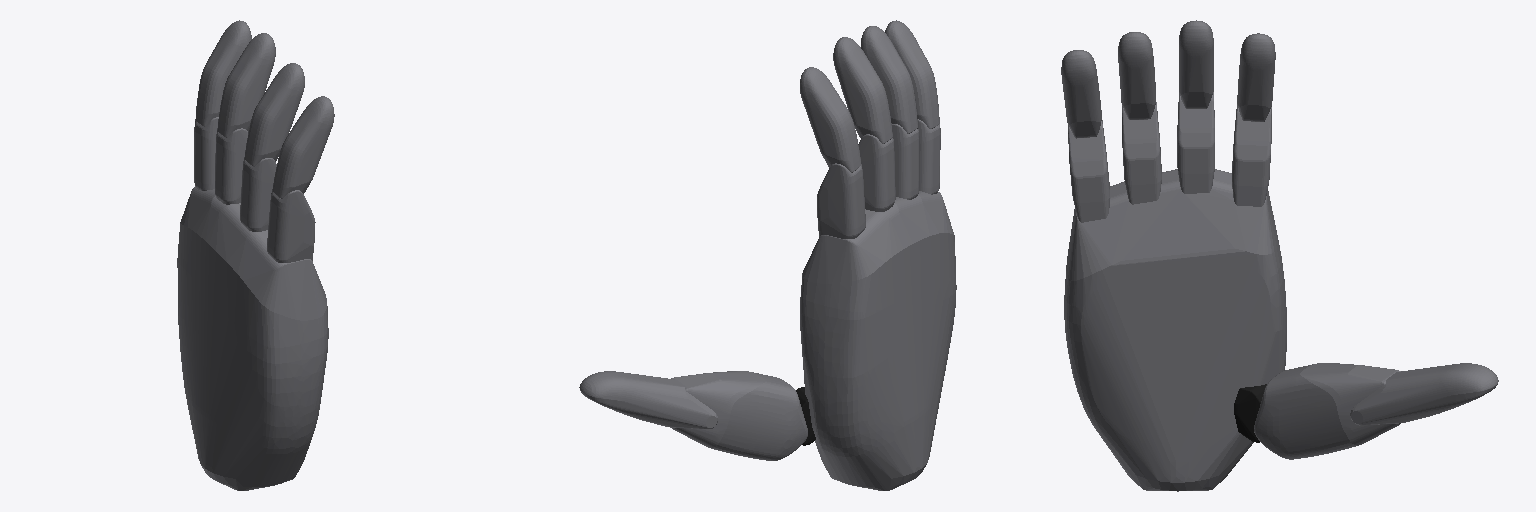
The robot description file, URDF, robot "linkerbot_o6_right":
<?xml version='1.0' encoding='utf-8'?>
<robot name="linkerbot_o6_right">
  <material name="rh_o6_silver">
    <color rgba="0.5 0.5 0.52 1.0" />
  </material>
  <material name="rh_o6_black_accent">
    <color rgba="0.15 0.15 0.15 1.0" />
  </material>
  <link name="rh_hand_base_link">
    <inertial>
      <origin xyz="-0.00160320773490556 0.000358462699237561 0.0538002704027215" rpy="0 0 0" />
      <mass value="0.06740077960995" />
      <inertia ixx="5.22359941041901E-05" ixy="3.0391535852764E-07" ixz="3.88322215371643E-07" iyy="3.33473043513648E-05" iyz="-7.77555280794861E-07" izz="2.28342677422006E-05" />
    </inertial>
    <visual>
      <origin xyz="0 0 0" rpy="0 0 0" />
      <geometry>
        <mesh filename="../meshes/right_cvx/hand_base_link.stl" />
      </geometry>
      <material name="rh_o6_silver" />
    </visual>
    <collision>
      <origin xyz="0 0 0" rpy="0 0 0" />
      <geometry>
        <mesh filename="../meshes/right_cvx/hand_base_link.stl" />
      </geometry>
    </collision>
  </link>
  <link name="rh_thumb_metacarpals_base2">
    <inertial>
      <origin xyz="0.00162795738393507 0.00276671978336815 -0.00184227725602707" rpy="0 0 0" />
      <mass value="0.00138591070212997" />
      <inertia ixx="5.26294625624223E-08" ixy="-3.9288013799604E-09" ixz="2.43766268199571E-09" iyy="4.82623724532942E-08" iyz="3.71867754115443E-09" izz="2.88555522060562E-08" />
    </inertial>
    <visual>
      <origin xyz="0 0 0" rpy="0 0 0" />
      <geometry>
        <mesh filename="../meshes/right_cvx/thumb_metacarpals_base2.stl" />
      </geometry>
      <material name="rh_o6_black_accent" />
    </visual>
    <collision>
      <origin xyz="0 0 0" rpy="0 0 0" />
      <geometry>
        <mesh filename="../meshes/right_cvx/thumb_metacarpals_base2.stl" />
      </geometry>
    </collision>
  </link>
  <link name="rh_thumb_metacarpals">
    <inertial>
      <origin xyz="4.24920612856275E-05 -1.67885666835232E-05 0.0228341522590467" rpy="0 0 0" />
      <mass value="0.0123381607727595" />
      <inertia ixx="1.10292488693766E-06" ixy="-6.14241939151719E-10" ixz="1.14233108676795E-07" iyy="1.76757658485787E-06" iyz="-4.24576599367025E-10" izz="9.36348143657406E-07" />
    </inertial>
    <visual>
      <origin xyz="0 0 0" rpy="0 0 0" />
      <geometry>
        <mesh filename="../meshes/right_cvx/thumb_metacarpals.stl" />
      </geometry>
      <material name="rh_o6_silver" />
    </visual>
    <collision>
      <origin xyz="0 0 0" rpy="0 0 0" />
      <geometry>
        <mesh filename="../meshes/right_cvx/thumb_metacarpals.stl" />
      </geometry>
    </collision>
  </link>
  <link name="rh_thumb_distal">
    <inertial>
      <origin xyz="-0.00413690727496815 -4.54842793429222E-07 0.0230097179163771" rpy="0 0 0" />
      <mass value="0.00763302603723749" />
      <inertia ixx="1.30546842791578E-06" ixy="-2.61617511029467E-12" ixz="7.19030685242407E-08" iyy="1.22457212713176E-06" iyz="1.66931068485225E-11" izz="2.7729897944409E-07" />
    </inertial>
    <visual>
      <origin xyz="0 0 0" rpy="0 0 0" />
      <geometry>
        <mesh filename="../meshes/right_cvx/thumb_distal.stl" />
      </geometry>
      <material name="rh_o6_silver" />
    </visual>
    <collision>
      <origin xyz="0 0 0" rpy="0 0 0" />
      <geometry>
        <mesh filename="../meshes/right_cvx/thumb_distal.stl" />
      </geometry>
    </collision>
  </link>
  <link name="rh_index_proximal">
    <inertial>
      <origin xyz="-0.00208665596033792 -4.8964990644329E-06 0.0172736718900068" rpy="0 0 0" />
      <mass value="0.00253178529301663" />
      <inertia ixx="2.65990159539482E-07" ixy="-3.55165625722842E-11" ixz="4.31046335852167E-08" iyy="2.72915460277804E-07" iyz="1.75935978708959E-10" izz="8.56026306687528E-08" />
    </inertial>
    <visual>
      <origin xyz="0 0 0" rpy="0 0 0" />
      <geometry>
        <mesh filename="../meshes/right_cvx/index_proximal.stl" />
      </geometry>
      <material name="rh_o6_silver" />
    </visual>
    <collision>
      <origin xyz="0 0 0" rpy="0 0 0" />
      <geometry>
        <mesh filename="../meshes/right_cvx/index_proximal.stl" />
      </geometry>
    </collision>
  </link>
  <link name="rh_index_distal">
    <inertial>
      <origin xyz="0.00658940011630532 -4.59976557022623E-06 0.0194434136420913" rpy="0 0 0" />
      <mass value="0.00376787129082313" />
      <inertia ixx="3.22116619426455E-07" ixy="1.03152735699049E-11" ixz="-1.14363506430985E-07" iyy="3.65131844686317E-07" iyz="-1.97263639269362E-10" izz="1.24256890612907E-07" />
    </inertial>
    <visual>
      <origin xyz="0 0 0" rpy="0 0 0" />
      <geometry>
        <mesh filename="../meshes/right_cvx/index_distal.stl" />
      </geometry>
      <material name="rh_o6_silver" />
    </visual>
    <collision>
      <origin xyz="0 0 0" rpy="0 0 0" />
      <geometry>
        <mesh filename="../meshes/right_cvx/index_distal.stl" />
      </geometry>
    </collision>
  </link>
  <link name="rh_middle_proximal">
    <inertial>
      <origin xyz="-0.00208661081773556 -4.93451838476378E-06 0.0172736805321904" rpy="0 0 0" />
      <mass value="0.00253175497594429" />
      <inertia ixx="2.65989683690695E-07" ixy="-3.58343951791586E-11" ixz="4.31048601085216E-08" iyy="2.72915006047006E-07" iyz="1.75718024412593E-10" izz="8.56020467202518E-08" />
    </inertial>
    <visual>
      <origin xyz="0 0 0" rpy="0 0 0" />
      <geometry>
        <mesh filename="../meshes/right_cvx/middle_proximal.stl" />
      </geometry>
      <material name="rh_o6_silver" />
    </visual>
    <collision>
      <origin xyz="0 0 0" rpy="0 0 0" />
      <geometry>
        <mesh filename="../meshes/right_cvx/middle_proximal.stl" />
      </geometry>
    </collision>
  </link>
  <link name="rh_middle_distal">
    <inertial>
      <origin xyz="0.00658940304809306 -4.5885743593238E-06 0.0194434523296449" rpy="0 0 0" />
      <mass value="0.00376786259758948" />
      <inertia ixx="3.221153658306E-07" ixy="1.02639617308432E-11" ixz="-1.14363547272711E-07" iyy="3.65130723083104E-07" iyz="-1.96904618797577E-10" izz="1.24256787913797E-07" />
    </inertial>
    <visual>
      <origin xyz="0 0 0" rpy="0 0 0" />
      <geometry>
        <mesh filename="../meshes/right_cvx/middle_distal.stl" />
      </geometry>
      <material name="rh_o6_silver" />
    </visual>
    <collision>
      <origin xyz="0 0 0" rpy="0 0 0" />
      <geometry>
        <mesh filename="../meshes/right_cvx/middle_distal.stl" />
      </geometry>
    </collision>
  </link>
  <link name="rh_ring_proximal">
    <inertial>
      <origin xyz="-0.00208654311325356 -4.98538564003281E-06 0.0172736743497407" rpy="0 0 0" />
      <mass value="0.00253170963529411" />
      <inertia ixx="2.6598913795678E-07" ixy="-3.62757108675266E-11" ixz="4.31050611555507E-08" iyy="2.72914417061517E-07" iyz="1.75554984053478E-10" izz="8.56012458677515E-08" />
    </inertial>
    <visual>
      <origin xyz="0 0 0" rpy="0 0 0" />
      <geometry>
        <mesh filename="../meshes/right_cvx/ring_proximal.stl" />
      </geometry>
      <material name="rh_o6_silver" />
    </visual>
    <collision>
      <origin xyz="0 0 0" rpy="0 0 0" />
      <geometry>
        <mesh filename="../meshes/right_cvx/ring_proximal.stl" />
      </geometry>
    </collision>
  </link>
  <link name="rh_ring_distal">
    <inertial>
      <origin xyz="0.00658940273069729 -4.56628863591824E-06 0.0194435005686854" rpy="0 0 0" />
      <mass value="0.0037678395356105" />
      <inertia ixx="3.22112632437858E-07" ixy="1.01848408913558E-11" ixz="-1.1436348915342E-07" iyy="3.65128262095686E-07" iyz="-1.96145632992445E-10" izz="1.24256284608064E-07" />
    </inertial>
    <visual>
      <origin xyz="0 0 0" rpy="0 0 0" />
      <geometry>
        <mesh filename="../meshes/right_cvx/ring_distal.stl" />
      </geometry>
      <material name="rh_o6_silver" />
    </visual>
    <collision>
      <origin xyz="0 0 0" rpy="0 0 0" />
      <geometry>
        <mesh filename="../meshes/right_cvx/ring_distal.stl" />
      </geometry>
    </collision>
  </link>
  <link name="rh_pinky_proximal">
    <inertial>
      <origin xyz="-0.00208649034130813 -5.02314582560837E-06 0.0172736680793697" rpy="0 0 0" />
      <mass value="0.00253167400540778" />
      <inertia ixx="2.65988718820404E-07" ixy="-3.66012295280295E-11" ixz="4.31052220484445E-08" iyy="2.72913936904813E-07" iyz="1.75447396222308E-10" izz="8.56006424720129E-08" />
    </inertial>
    <visual>
      <origin xyz="0 0 0" rpy="0 0 0" />
      <geometry>
        <mesh filename="../meshes/right_cvx/pinky_proximal.stl" />
      </geometry>
      <material name="rh_o6_silver" />
    </visual>
    <collision>
      <origin xyz="0 0 0" rpy="0 0 0" />
      <geometry>
        <mesh filename="../meshes/right_cvx/pinky_proximal.stl" />
      </geometry>
    </collision>
  </link>
  <link name="rh_pinky_distal">
    <inertial>
      <origin xyz="0.00658940431519205 -4.55268314210333E-06 0.0194435341098305" rpy="0 0 0" />
      <mass value="0.00376782669873412" />
      <inertia ixx="3.22111112339498E-07" ixy="1.01707985908333E-11" ixz="-1.14363524419061E-07" iyy="3.65126916899176E-07" iyz="-1.95589215866356E-10" izz="1.24256004854426E-07" />
    </inertial>
    <visual>
      <origin xyz="0 0 0" rpy="0 0 0" />
      <geometry>
        <mesh filename="../meshes/right_cvx/pinky_distal.stl" />
      </geometry>
      <material name="rh_o6_silver" />
    </visual>
    <collision>
      <origin xyz="0 0 0" rpy="0 0 0" />
      <geometry>
        <mesh filename="../meshes/right_cvx/pinky_distal.stl" />
      </geometry>
    </collision>
  </link>
  <joint name="rh_thumb_cmc_yaw" type="revolute">
    <origin xyz="0.011508 0.022975 0.032794" rpy="0 0 0" />
    <parent link="rh_hand_base_link" />
    <child link="rh_thumb_metacarpals_base2" />
    <axis xyz="0 0 -1" />
    <limit lower="0" upper="1.36" effort="100" velocity="1" />
  </joint>
  <joint name="rh_thumb_cmc_pitch" type="revolute">
    <origin xyz="0.0061649 0.010678 -0.004891" rpy="0 -1.1529 -2.0944" />
    <parent link="rh_thumb_metacarpals_base2" />
    <child link="rh_thumb_metacarpals" />
    <axis xyz="0 1 0" />
    <limit lower="0" upper="0.58" effort="100" velocity="1" />
  </joint>
  <joint name="rh_thumb_ip" type="revolute">
    <origin xyz="0.0037776 0 0.045368" rpy="0 0 0" />
    <parent link="rh_thumb_metacarpals" />
    <child link="rh_thumb_distal" />
    <axis xyz="0 1 0" />
    <limit lower="0" upper="1.08" effort="100" velocity="1" />
    <mimic joint="rh_thumb_cmc_pitch" multiplier="1.86" offset="0" />
  </joint>
  <joint name="rh_index_mcp_pitch" type="revolute">
    <origin xyz="0.0024758 0.02419 0.098779" rpy="-0.05236 0 0" />
    <parent link="rh_hand_base_link" />
    <child link="rh_index_proximal" />
    <axis xyz="0 1 0" />
    <limit lower="0" upper="1.60" effort="100" velocity="1" />
  </joint>
  <joint name="rh_index_dip" type="revolute">
    <origin xyz="-0.0052516 0 0.036625" rpy="0 0 0" />
    <parent link="rh_index_proximal" />
    <child link="rh_index_distal" />
    <axis xyz="0 1 0" />
    <limit lower="0" upper="1.43" effort="100" velocity="1" />
    <mimic joint="rh_index_mcp_pitch" multiplier="0.89" offset="0" />
  </joint>
  <joint name="rh_middle_mcp_pitch" type="revolute">
    <origin xyz="0.00052576 0.00634 0.1027" rpy="0 0 0" />
    <parent link="rh_hand_base_link" />
    <child link="rh_middle_proximal" />
    <axis xyz="0 1 0" />
    <limit lower="0" upper="1.60" effort="100" velocity="1" />
  </joint>
  <joint name="rh_middle_dip" type="revolute">
    <origin xyz="-0.0052516 0 0.036625" rpy="0 0 0" />
    <parent link="rh_middle_proximal" />
    <child link="rh_middle_distal" />
    <axis xyz="0 1 0" />
    <limit lower="0" upper="1.43" effort="100" velocity="1" />
    <mimic joint="rh_middle_mcp_pitch" multiplier="0.89" offset="0" />
  </joint>
  <joint name="rh_ring_mcp_pitch" type="revolute">
    <origin xyz="0.0010258 -0.011135 0.098767" rpy="0.05236 0 0" />
    <parent link="rh_hand_base_link" />
    <child link="rh_ring_proximal" />
    <axis xyz="0 1 0" />
    <limit lower="0" upper="1.60" effort="100" velocity="1" />
  </joint>
  <joint name="rh_ring_dip" type="revolute">
    <origin xyz="-0.0052516 0 0.036625" rpy="0 0 0" />
    <parent link="rh_ring_proximal" />
    <child link="rh_ring_distal" />
    <axis xyz="0 1 0" />
    <limit lower="0" upper="1.43" effort="100" velocity="1" />
    <mimic joint="rh_ring_mcp_pitch" multiplier="0.89" offset="0" />
  </joint>
  <joint name="rh_pinky_mcp_pitch" type="revolute">
    <origin xyz="0.0024758 -0.028372 0.092741" rpy="0.087266 0 0" />
    <parent link="rh_hand_base_link" />
    <child link="rh_pinky_proximal" />
    <axis xyz="0 1 0" />
    <limit lower="0" upper="1.60" effort="100" velocity="1" />
  </joint>
  <joint name="rh_pinky_dip" type="revolute">
    <origin xyz="-0.0052516 0 0.036625" rpy="0 0 0" />
    <parent link="rh_pinky_proximal" />
    <child link="rh_pinky_distal" />
    <axis xyz="0 1 0" />
    <limit lower="0" upper="1.43" effort="100" velocity="1" />
    <mimic joint="rh_pinky_mcp_pitch" multiplier="0.89" offset="0" />
  </joint>
</robot>

--- Facts derived from the render (not from the file) ---
3 views of the same robot in one strip: view 1: azimuth 30°, elevation 25°; view 2: azimuth 150°, elevation 25°; view 3: azimuth 270°, elevation 25° (orthographic).
Robot: linkerbot_o6_right — 12 links, 11 joints (11 revolute); root link rh_hand_base_link; default pose: every joint at zero.
Visible links, largest first — view 1: rh_hand_base_link, rh_pinky_distal, rh_ring_distal, rh_middle_distal, rh_pinky_proximal, rh_index_distal, rh_ring_proximal, rh_middle_proximal, rh_index_proximal; view 2: rh_hand_base_link, rh_thumb_metacarpals, rh_thumb_distal, rh_index_distal, rh_middle_distal, rh_index_proximal, rh_ring_distal, rh_pinky_distal, rh_middle_proximal, rh_ring_proximal, rh_pinky_proximal; view 3: rh_hand_base_link, rh_thumb_metacarpals, rh_thumb_distal, rh_index_proximal, rh_middle_proximal, rh_pinky_proximal, rh_ring_proximal, rh_pinky_distal, rh_index_distal, rh_ring_distal, rh_middle_distal, rh_thumb_metacarpals_base2.
Boxes of the visible links, bbox=[...] form: rh_hand_base_link: bbox=[177, 186, 328, 490]; rh_pinky_distal: bbox=[272, 96, 334, 198]; rh_ring_distal: bbox=[244, 63, 304, 166]; rh_middle_distal: bbox=[217, 33, 275, 137]; rh_pinky_proximal: bbox=[267, 189, 315, 262]; rh_index_distal: bbox=[195, 20, 251, 126]; rh_ring_proximal: bbox=[240, 158, 276, 231]; rh_middle_proximal: bbox=[215, 128, 247, 204]; rh_index_proximal: bbox=[194, 117, 218, 190]; rh_hand_base_link: bbox=[800, 191, 956, 490]; rh_thumb_metacarpals: bbox=[670, 371, 807, 460]; rh_thumb_distal: bbox=[579, 371, 717, 428]; rh_index_distal: bbox=[800, 67, 860, 172]; rh_middle_distal: bbox=[833, 37, 892, 143]; rh_index_proximal: bbox=[817, 163, 865, 238]; rh_ring_distal: bbox=[861, 26, 917, 133]; rh_pinky_distal: bbox=[885, 20, 939, 128]; rh_middle_proximal: bbox=[858, 134, 895, 211]; rh_ring_proximal: bbox=[892, 124, 918, 199]; rh_pinky_proximal: bbox=[918, 119, 940, 194]; rh_hand_base_link: bbox=[1064, 169, 1286, 491]; rh_thumb_metacarpals: bbox=[1254, 363, 1400, 459]; rh_thumb_distal: bbox=[1350, 363, 1498, 425]; rh_index_proximal: bbox=[1232, 104, 1271, 206]; rh_middle_proximal: bbox=[1177, 92, 1214, 193]; rh_pinky_proximal: bbox=[1068, 120, 1109, 222]; rh_ring_proximal: bbox=[1122, 102, 1161, 204]; rh_pinky_distal: bbox=[1061, 50, 1101, 138]; rh_index_distal: bbox=[1237, 33, 1275, 121]; rh_ring_distal: bbox=[1118, 32, 1155, 119]; rh_middle_distal: bbox=[1179, 20, 1213, 108]; rh_thumb_metacarpals_base2: bbox=[1234, 384, 1266, 442].
Size in the robot's own frame: 0.0852 by 0.1505 by 0.1769 metres.
Meshes: 12 distinct files referenced, 12 mesh visuals loaded (12 binary STL).
